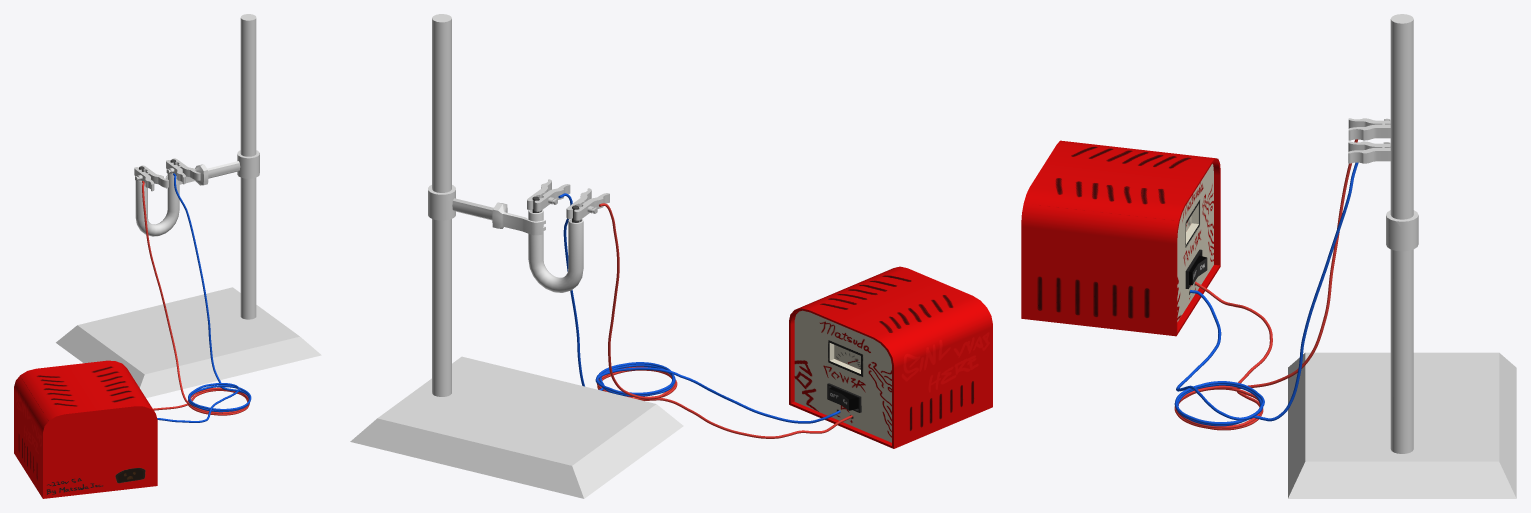
Rendered from cableRollWithStatif.fbx.
3 views of the same model, side by side, from view 1: azimuth 30°, elevation 25°; view 2: azimuth 150°, elevation 25°; view 3: azimuth 270°, elevation 25° (orthographic). The views are drawn at different scales.
Visible parts, largest first — view 1: Cube.037, Base, Rod, BezierCurve.006, tube, BezierCurve.007, Clamp; view 2: Cube.037, Base, Rod, tube, Clamp, BezierCurve.006, BezierCurve.007; view 3: Cube.037, Base, Rod, BezierCurve.006, BezierCurve.007, Clamp, Cube.033, Cube.026.
Part boxes in pixels (box(x1,y1,x2,y2)): Cube.037: box(14, 360, 157, 498); Base: box(56, 287, 321, 397); Rod: box(240, 14, 256, 319); BezierCurve.006: box(157, 173, 251, 422); tube: box(135, 173, 179, 236); BezierCurve.007: box(142, 181, 249, 415); Clamp: box(165, 150, 259, 188); Cube.037: box(789, 266, 992, 448); Base: box(350, 356, 683, 498); Rod: box(432, 14, 451, 396); tube: box(528, 209, 583, 292); Clamp: box(428, 185, 545, 235); BezierCurve.006: box(558, 193, 840, 423); BezierCurve.007: box(596, 203, 852, 438); Cube.037: box(1021, 140, 1220, 336); Base: box(1288, 352, 1516, 498); Rod: box(1390, 14, 1413, 453); BezierCurve.006: box(1174, 162, 1358, 426); BezierCurve.007: box(1174, 139, 1357, 430); Clamp: box(1386, 210, 1418, 251); Cube.033: box(1348, 123, 1390, 140); Cube.026: box(1348, 146, 1390, 163).
Bounding box in the file's own units: 3187 × 2724 × 2666.
